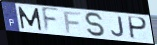F: (41, 6, 61, 34), (63, 11, 83, 34)
J: (110, 16, 126, 38)
M: (16, 6, 43, 32)
P: (128, 16, 149, 41)
S: (83, 12, 107, 38)
